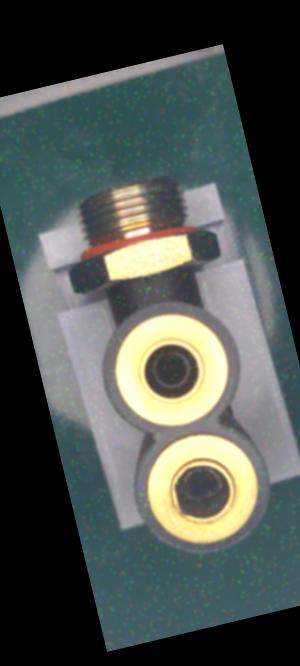craze: (139, 270, 155, 291)
off-centered: (174, 458, 235, 508)
